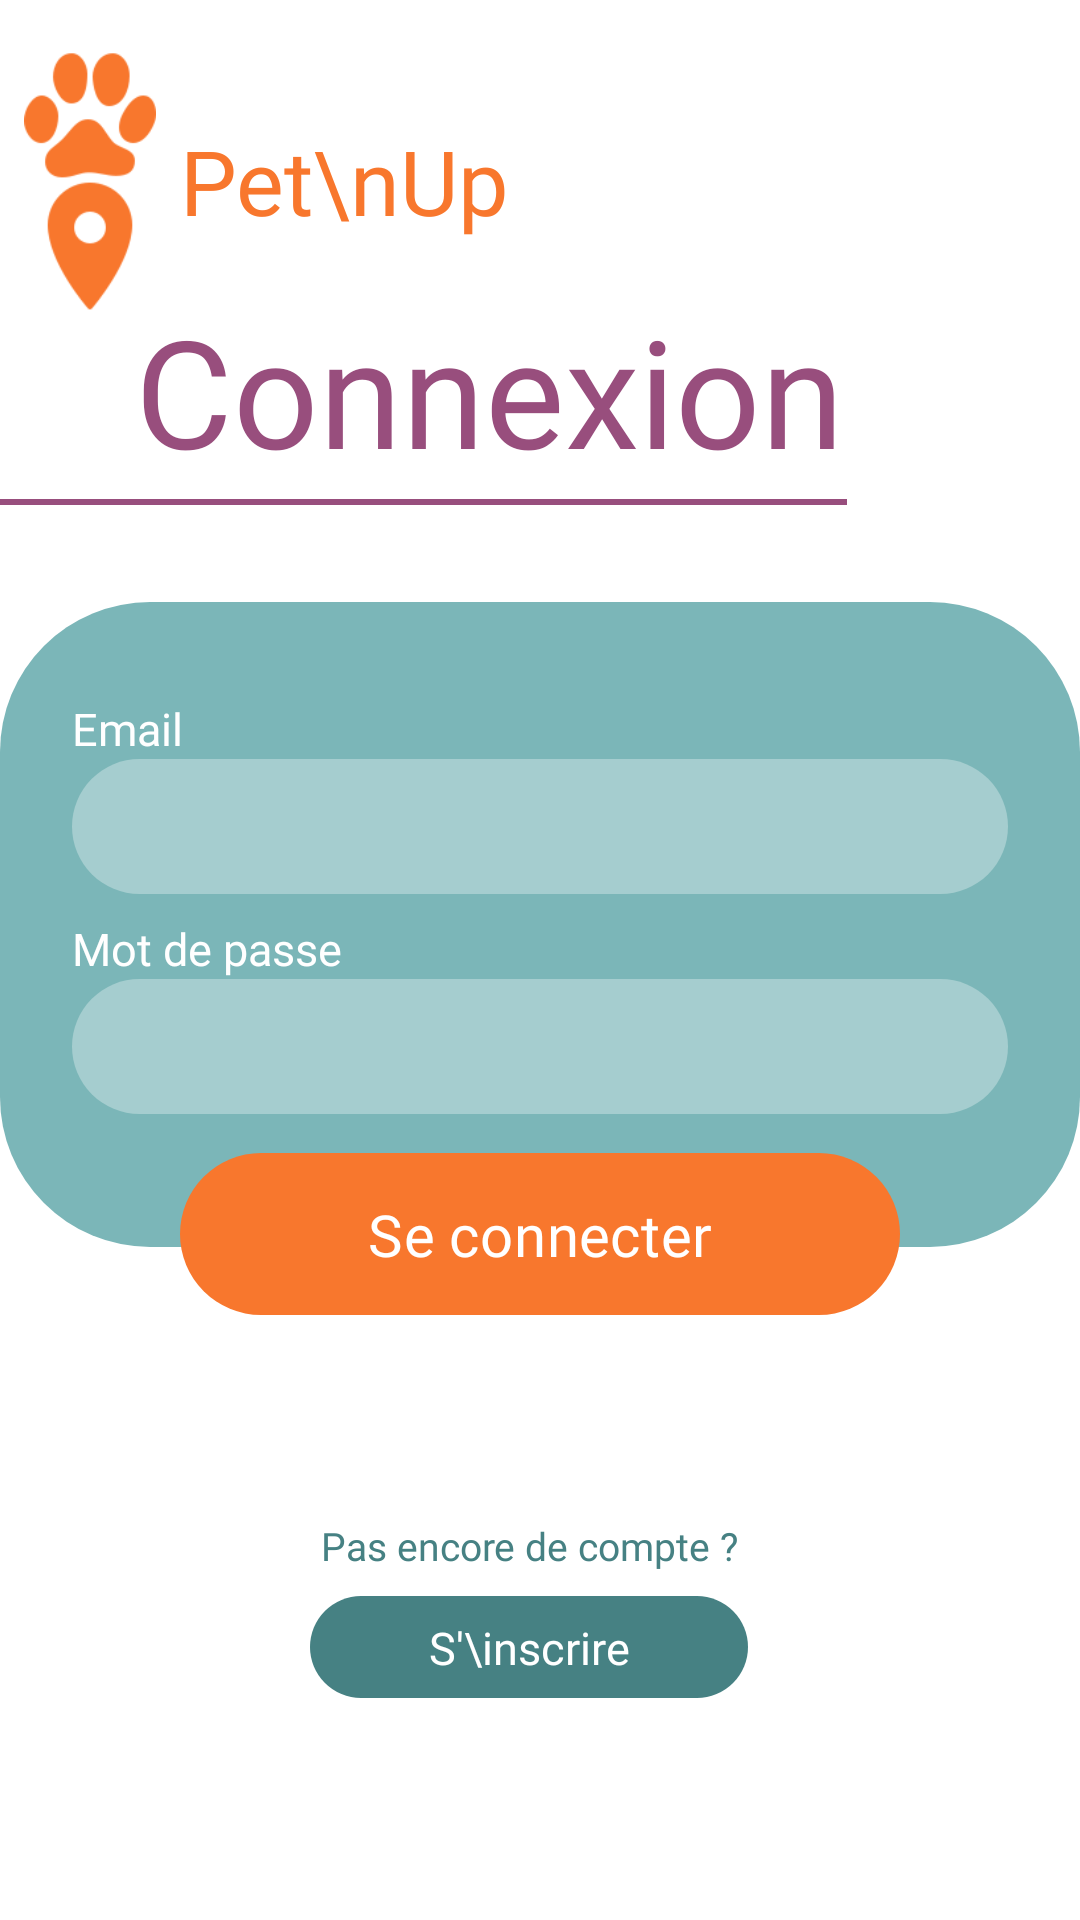

Where to tap for icons on this 1080*1920 app screen, as (x,y):
marqueur: (90,246)
paw: (90,115)
